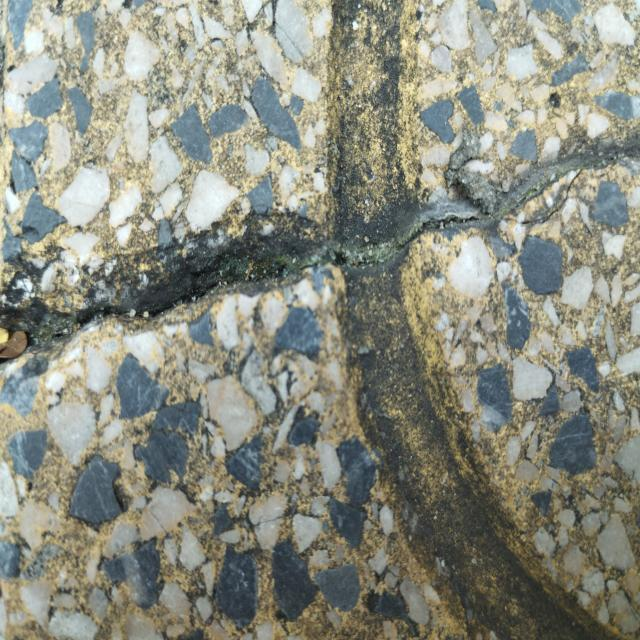diagonal crack: (0, 121, 639, 345)
